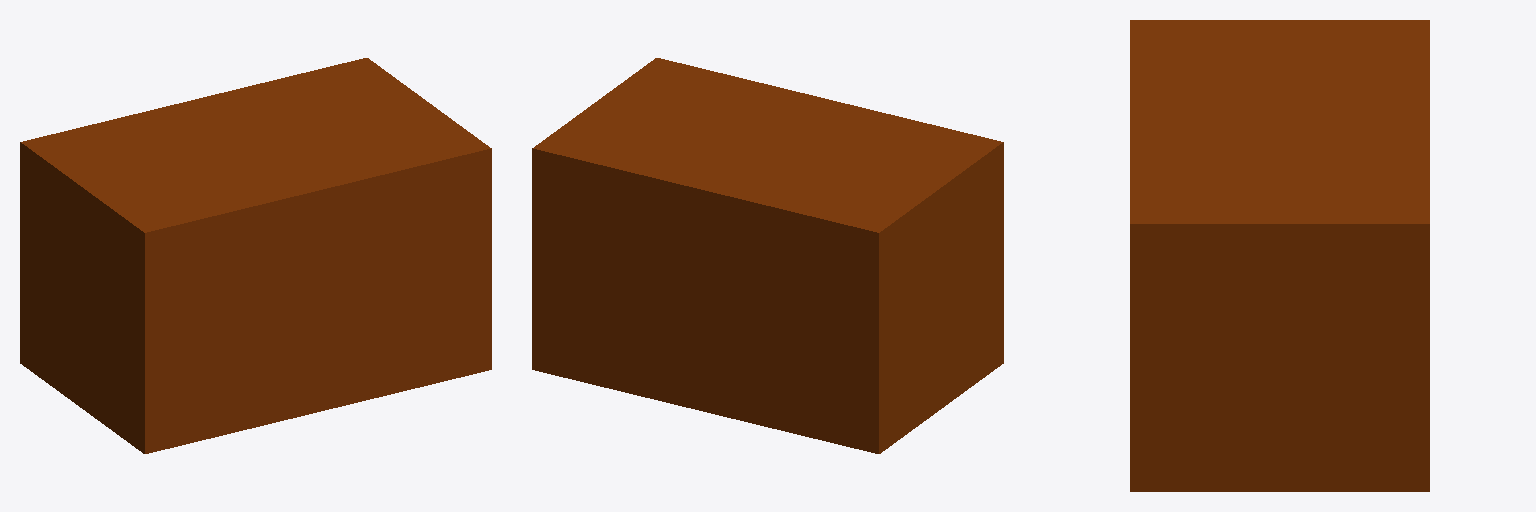
The robot description file, URDF, robot "handle_head":
<?xml version="1.0"?>
<robot name="handle_head">

  <link name="handle_head">
    <!-- Handle -->
    <visual>
      <origin xyz="0 0 0" rpy="0 0 0"/>
      <geometry>
        <box size="0.07975229208579171 0.049500930765065405 0.04868437772257085"/>
      </geometry>
      <material name="brown">
        <color rgba="0.55 0.27 0.07 1.0"/>
      </material>
    </visual>
    <collision>
      <origin xyz="0 0 0" rpy="0 0 0"/>
      <geometry>
        <box size="0.07975229208579171 0.049500930765065405 0.04868437772257085"/>
      </geometry>
    </collision>

    <inertial>
      <origin xyz="0 0 0" rpy="0 0 0"/>
      <mass value="0.07026463605032952"/>
      <inertia ixx="2.822595296604462e-05" iyy="5.11210167947413e-05" izz="5.15904636837267e-05" ixy="0" ixz="0" iyz="0"/>
    </inertial>
  </link>

</robot>

--- Render facts (derived) ---
The picture shows the robot from 3 angles, left to right: view 1: azimuth 30°, elevation 25°; view 2: azimuth 150°, elevation 25°; view 3: azimuth 270°, elevation 25°; orthographic projection.
Model handle_head with 1 links and 0 joints (none), rooted at handle_head, posed all joints at 0.
Links seen in each view (by area): view 1: handle_head; view 2: handle_head; view 3: handle_head.
Link boxes in pixels (<box>): handle_head: <box>20,58,491,453</box>; handle_head: <box>532,58,1003,453</box>; handle_head: <box>1130,20,1429,491</box>.
Bounding box of the posed robot: 0.0798 × 0.0495 × 0.0487 m (x, y, z).
Geometry: primitives only (box / cylinder / sphere), no mesh files.
